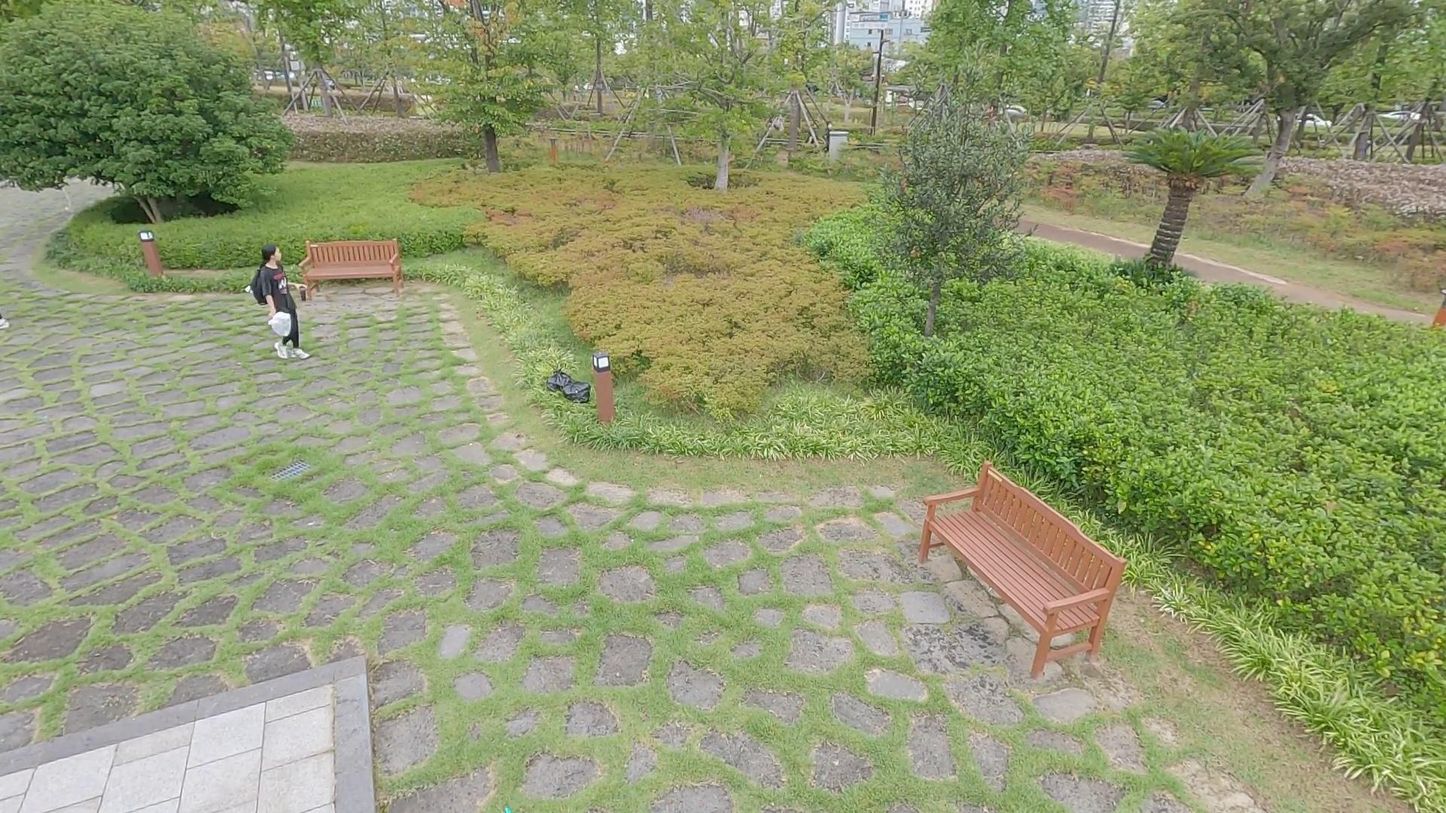person: (248, 244, 312, 361)
trash: (560, 380, 591, 404), (268, 310, 292, 337), (547, 369, 574, 393), (296, 287, 309, 302)
